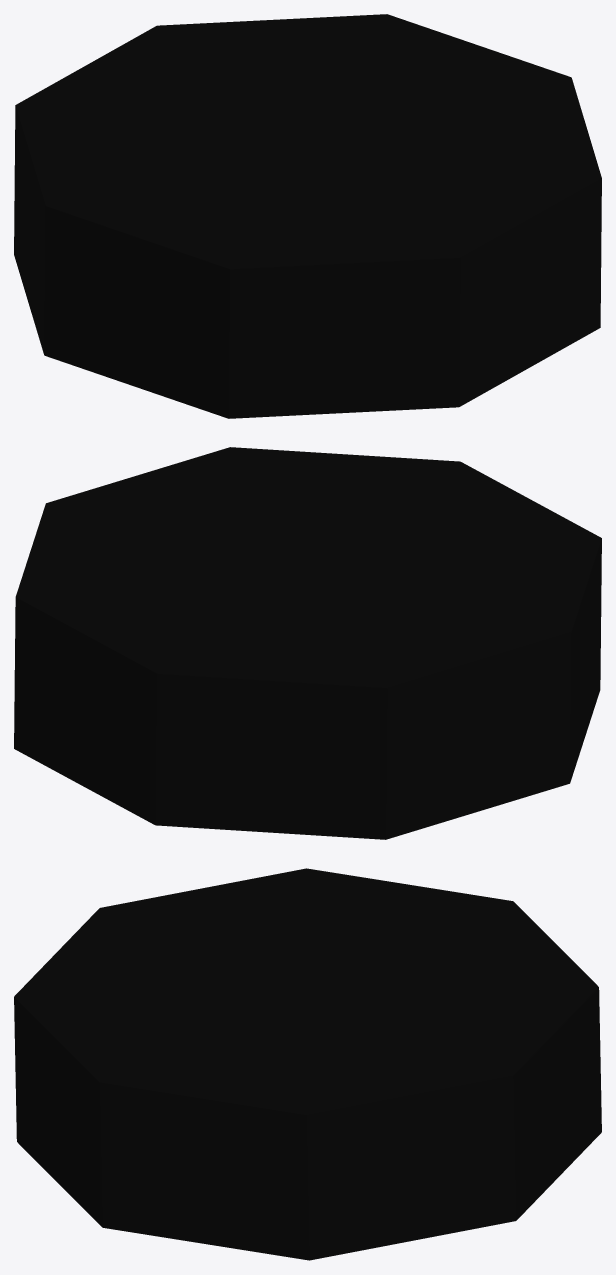
File: Spotlight_Off.glb
3 views of the same model, one above another, from view 1: azimuth 30°, elevation 25°; view 2: azimuth 150°, elevation 25°; view 3: azimuth 270°, elevation 25° (orthographic). The views are drawn at different scales.
Visible parts, largest first — view 1: spotlight_Off; view 2: spotlight_Off; view 3: spotlight_Off.
Part boxes in pixels (<box>): spotlight_Off: <box>14,14,601,418</box>; spotlight_Off: <box>14,447,601,839</box>; spotlight_Off: <box>14,868,601,1260</box>.
Bounding box in the file's own units: 0.3607 × 0.1052 × 0.3624.
Materials: 1 (1 with a texture image).
